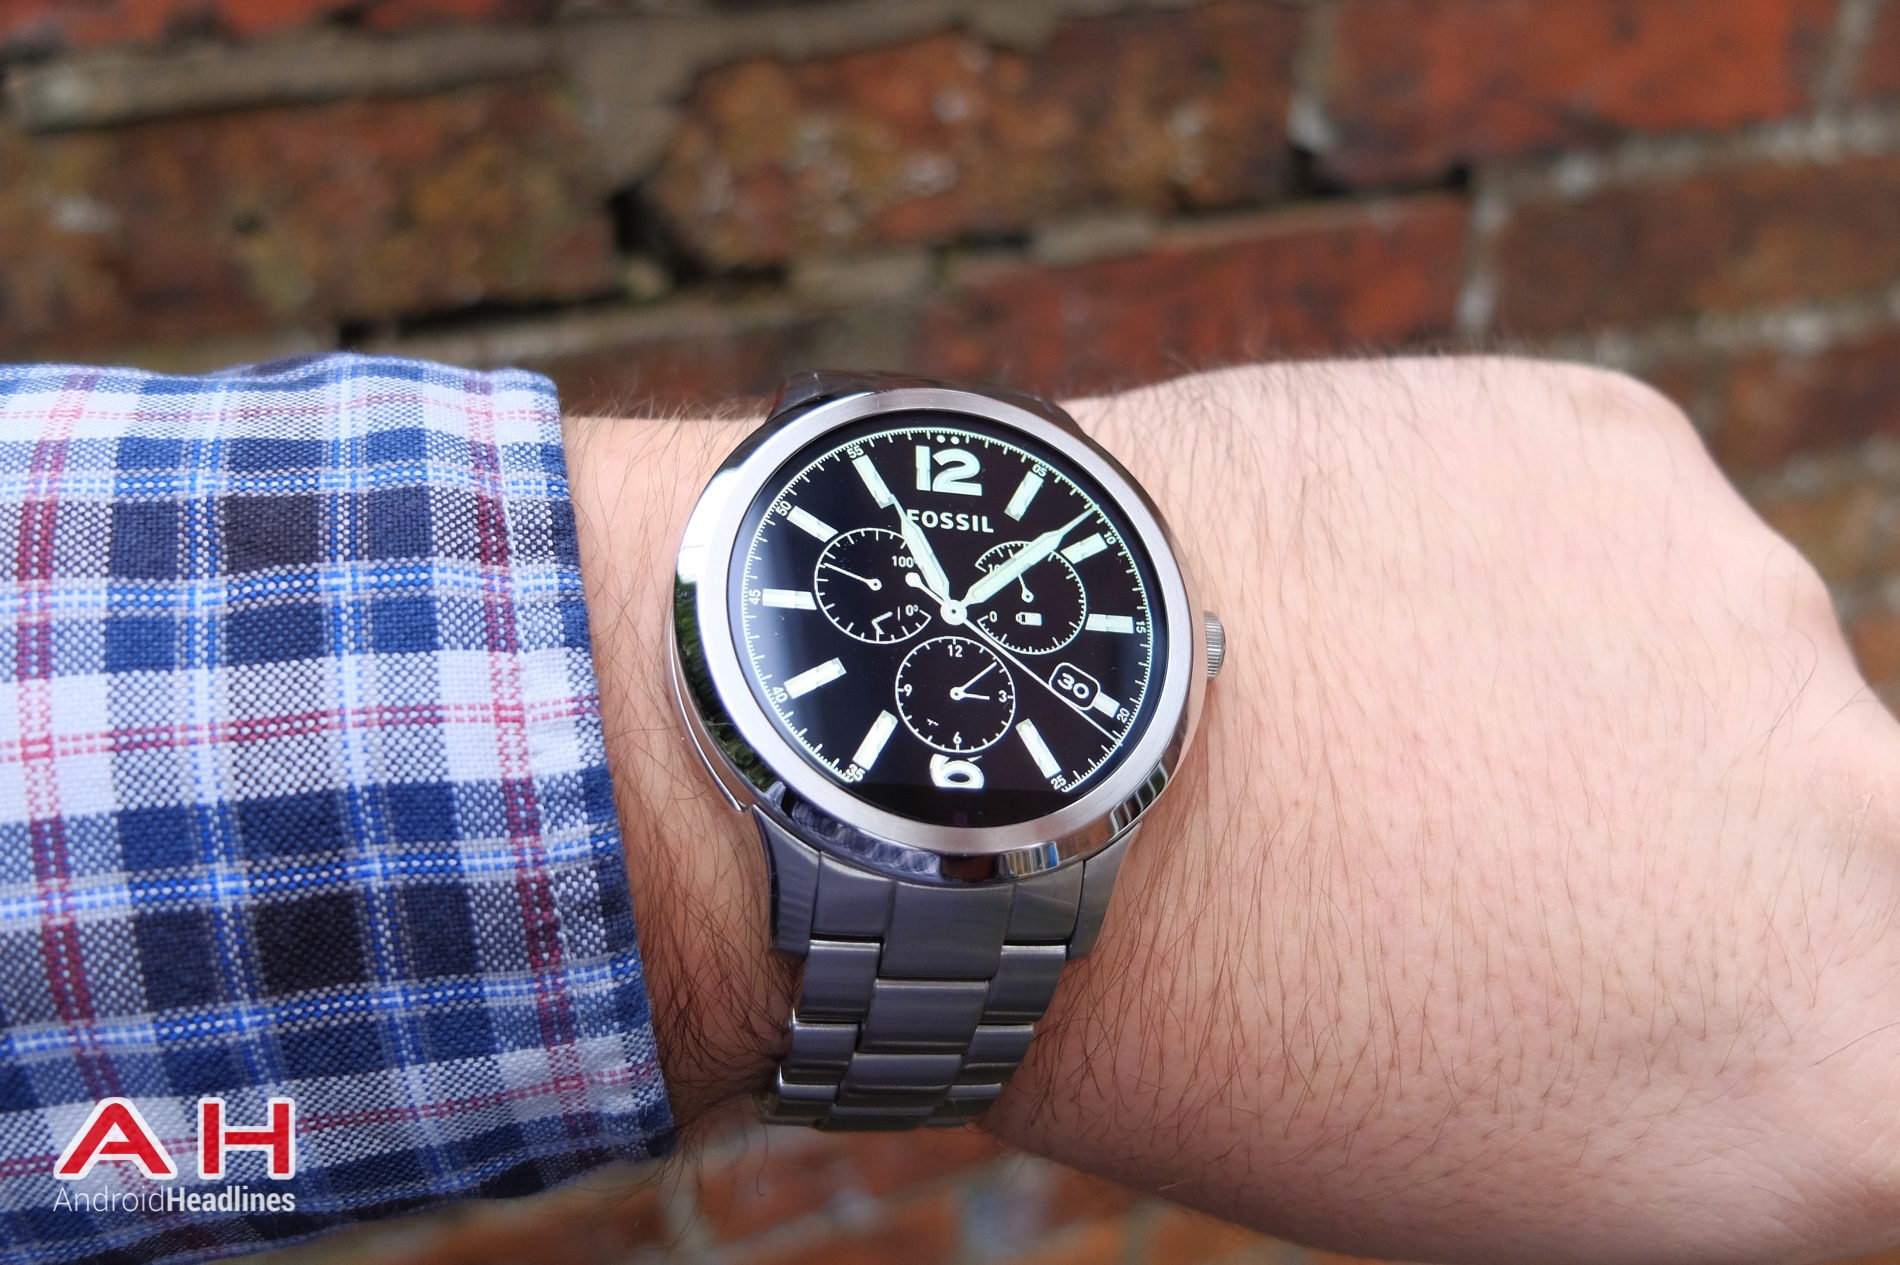clock: (663, 373, 1220, 891)
